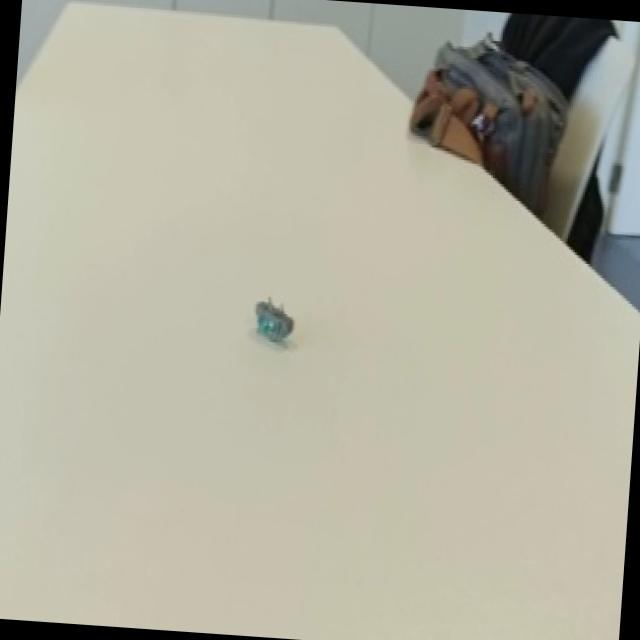5_NanoBug_GrisClaro: (249, 292, 308, 371)
